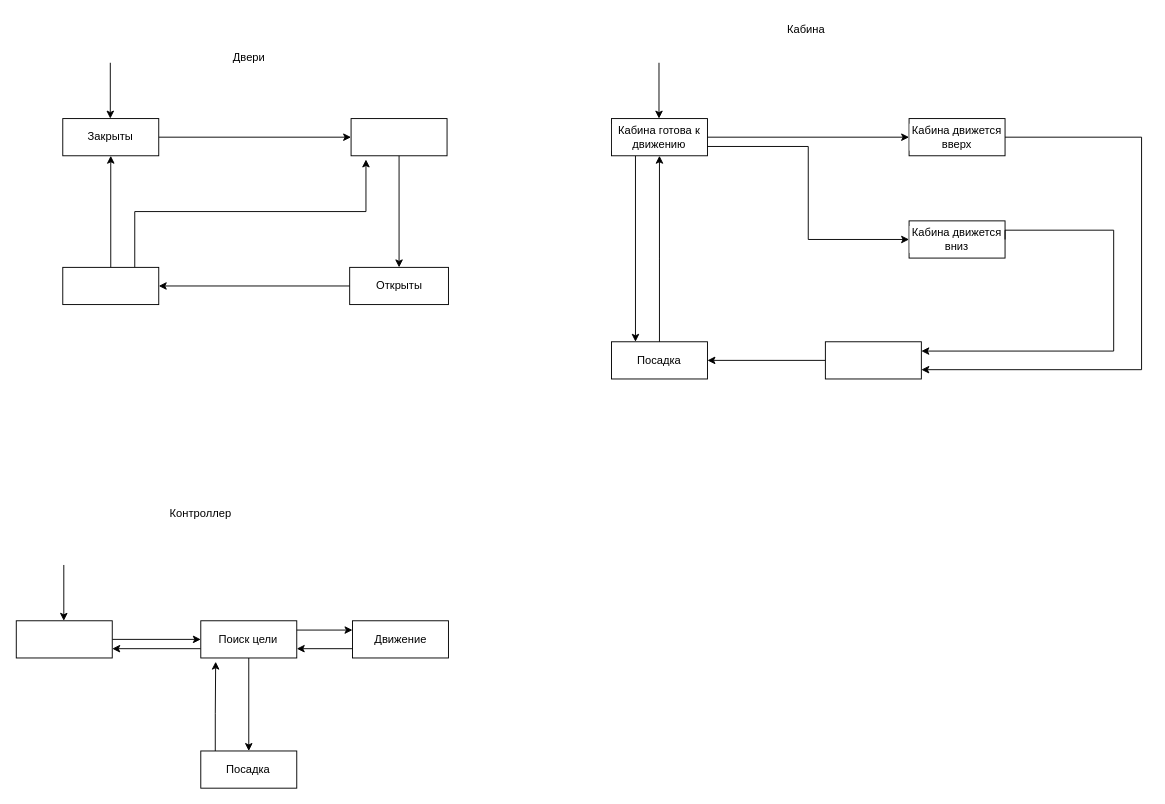
Image size: 1165x804. Some labels were removed from this diagram. Here are the shapes that lost their labels. From the top down, the centre of each, then its label:
At point (398, 137): "От крываются".
At point (110, 285): "Закрываются".
At point (872, 360): "Кабина прибыла на этаж".
At point (63, 639): "Свободен".
